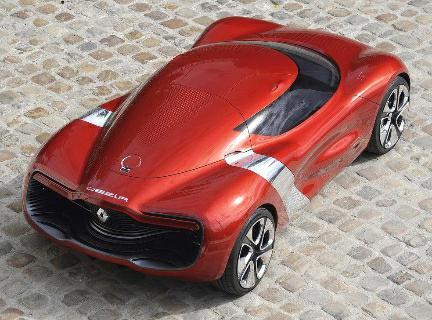雷诺-DeZir: (19, 10, 417, 302)
